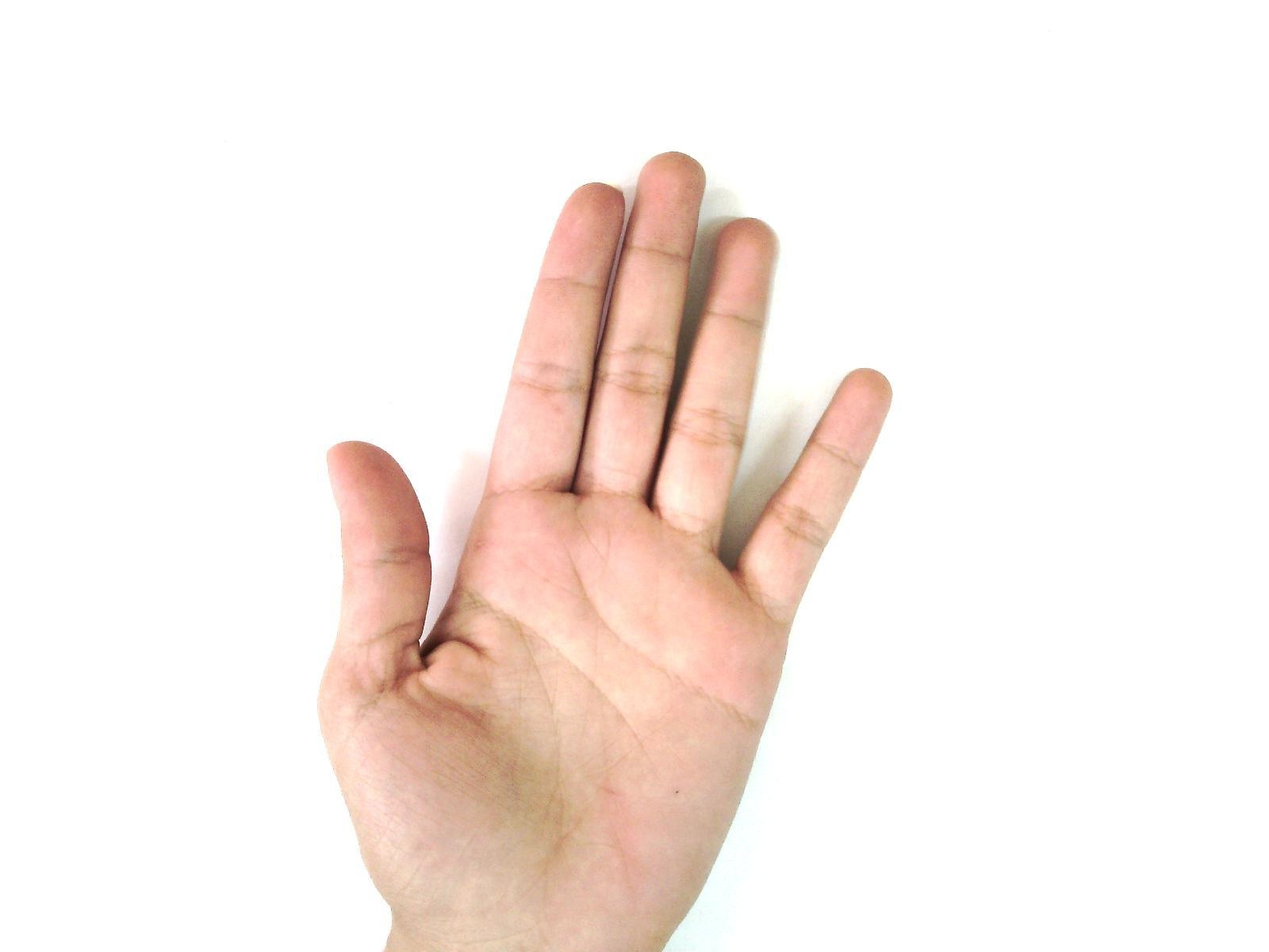open_palm: (315, 150, 895, 951)
